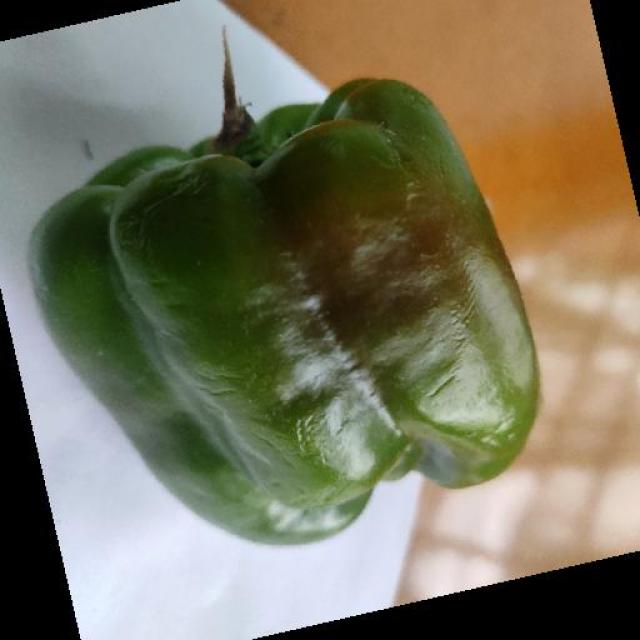Stale_Capsicum: (42, 68, 545, 534)
